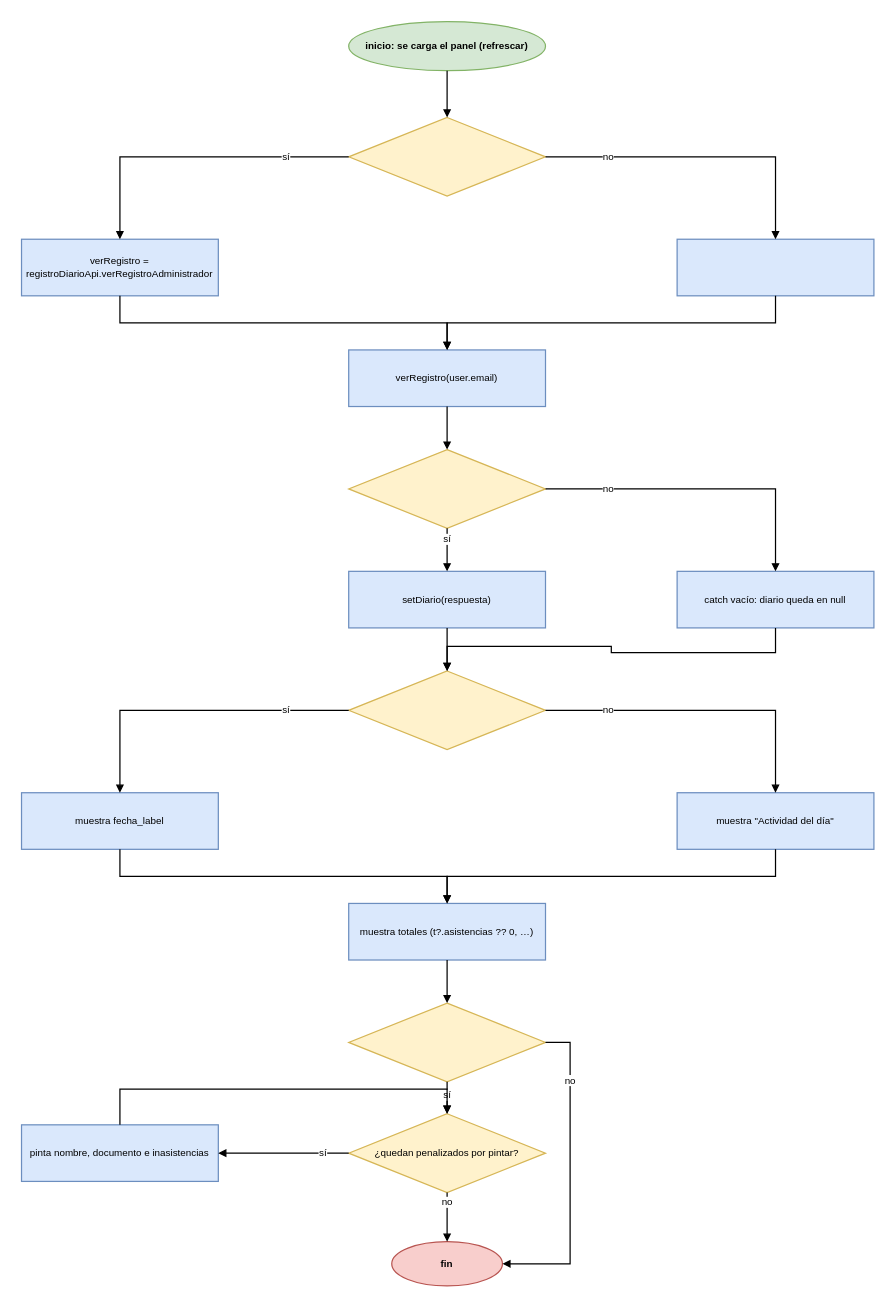
Image size: 895x1307. Some labels were removed from this diagram. The centre of each missing label's shape, as x and y in pixels:
verRegistro = reportsApi.verRegistroEntrenador: the point at 775,267
¿diario?.fecha_label existe?: the point at 446,710
¿diario?.penalizados?.length > 0?: the point at 446,1042
¿esAdmin?: the point at 446,156
¿la petición respondió ok?: the point at 446,488
